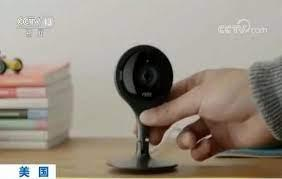maru: (105, 37, 182, 114)
